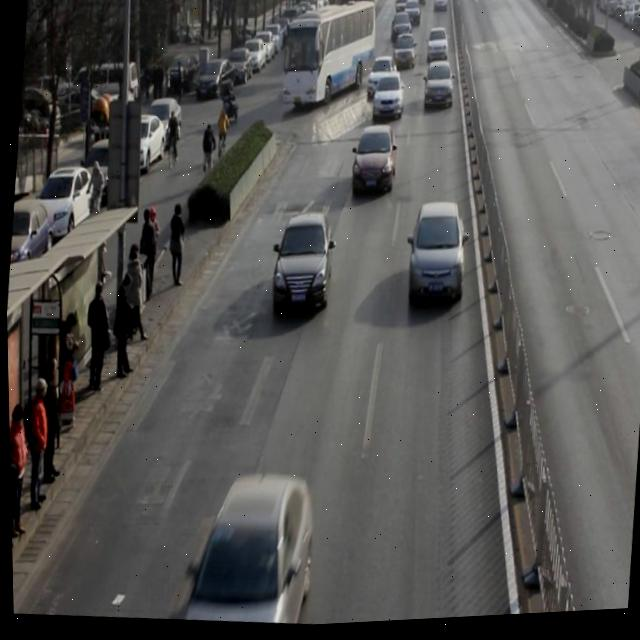car: (180, 470, 316, 632), (267, 212, 335, 321), (403, 203, 469, 310), (348, 125, 399, 203), (369, 73, 405, 128), (421, 62, 456, 116), (363, 57, 399, 105), (423, 29, 450, 71), (390, 34, 417, 75)
van: (278, 0, 376, 113)
